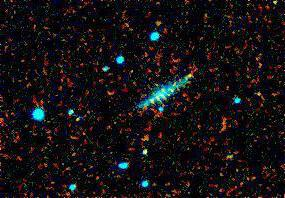star: (177, 59, 207, 89)
